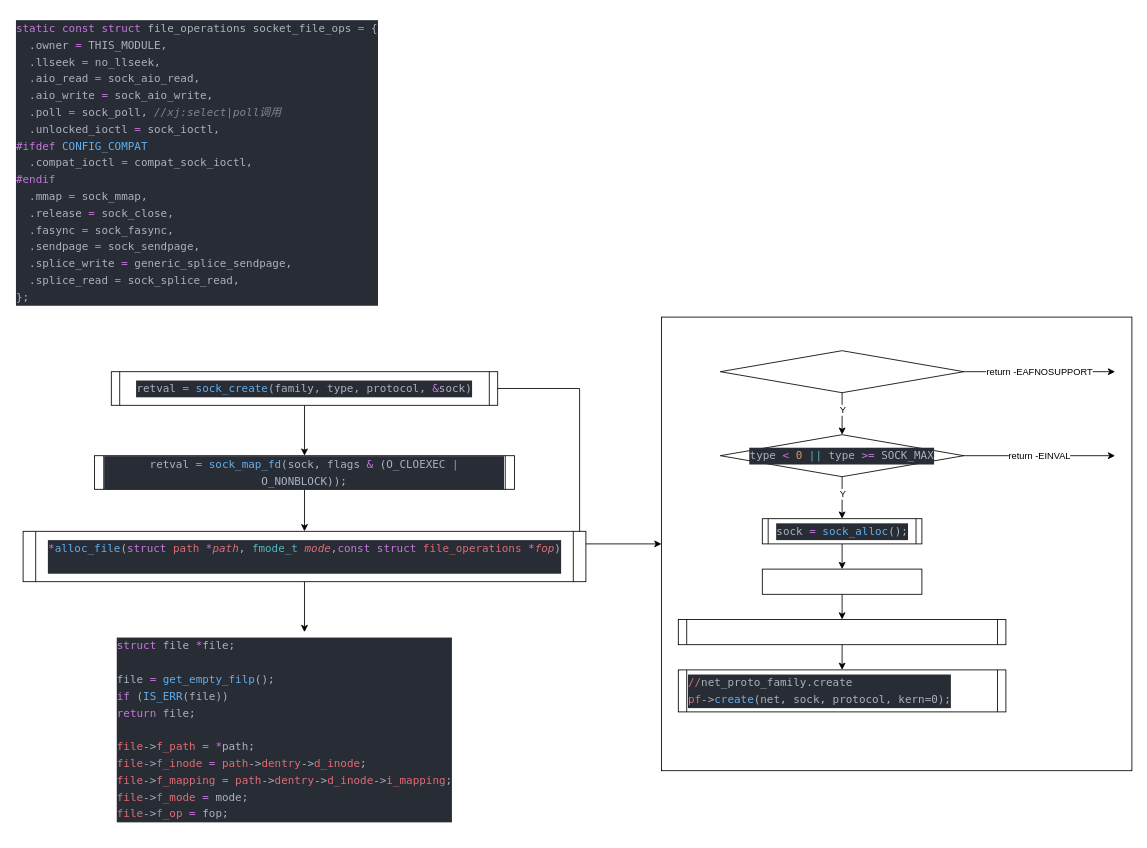
The diagram is 1147 pixels wide and 848 high, and some of its shapes have lost their labels. Each missing label, with the centre of its shape:
family < 0 || family >= NPROTO: the point at 841,371
pf = rcu_dereference ( net_families [family]);: the point at 841,632
sock -> type = type;: the point at 841,581
